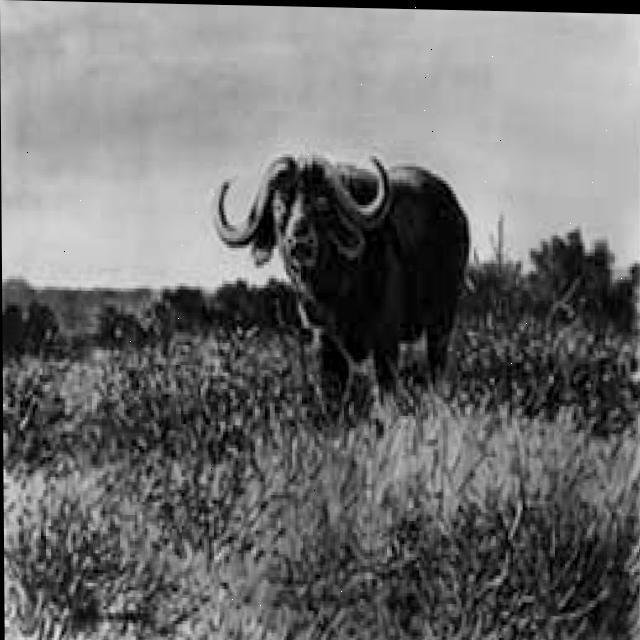Buffalo: (214, 149, 473, 427)
